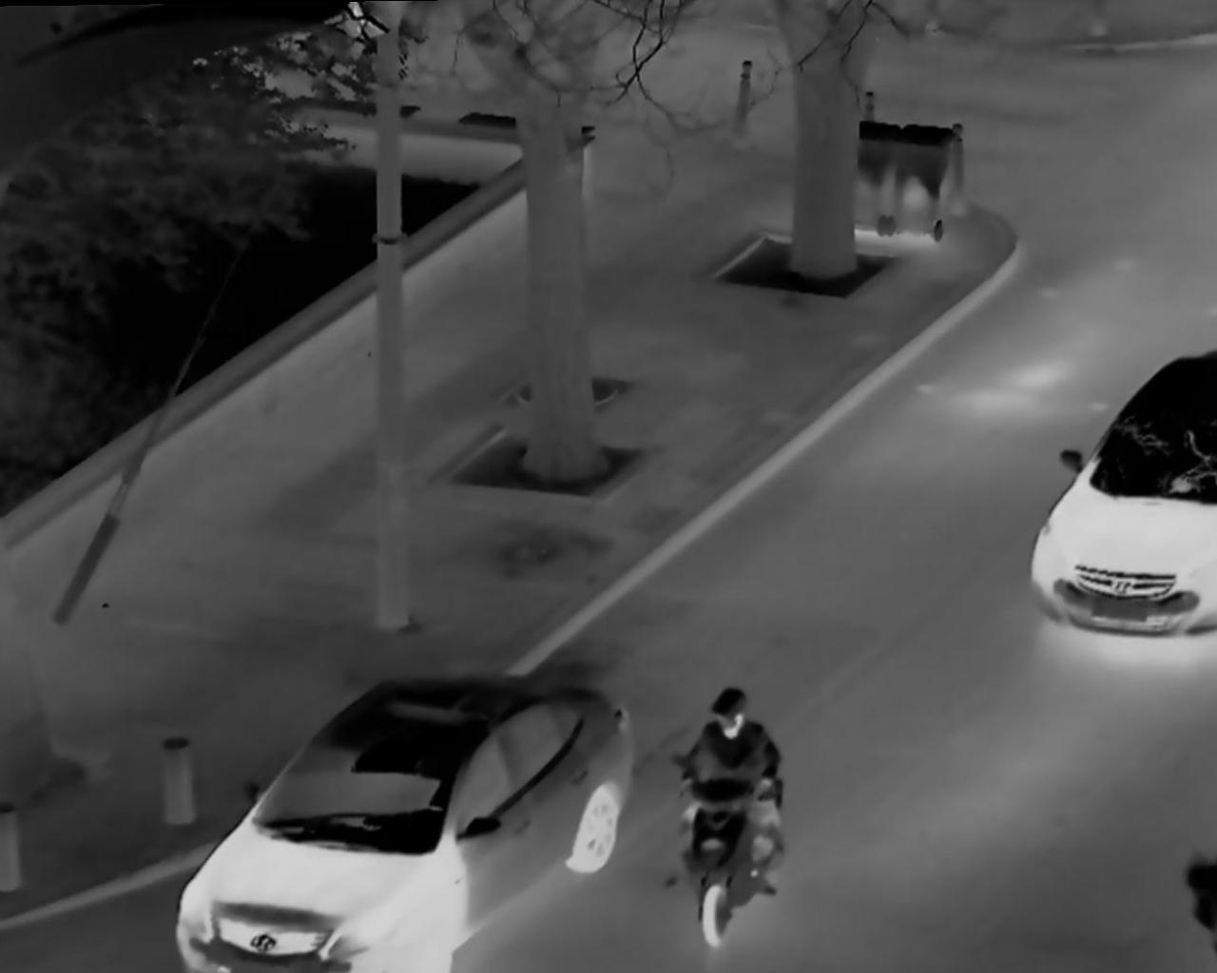person: (666, 675, 794, 901)
